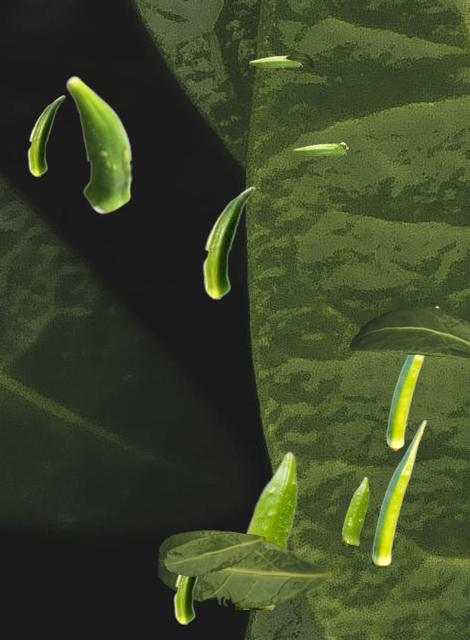okra: (235, 450, 297, 608), (65, 75, 132, 213), (372, 419, 425, 564), (386, 305, 438, 450), (202, 186, 254, 299), (27, 95, 64, 176), (342, 476, 368, 544), (173, 575, 198, 624), (293, 142, 347, 154), (249, 55, 303, 66)
